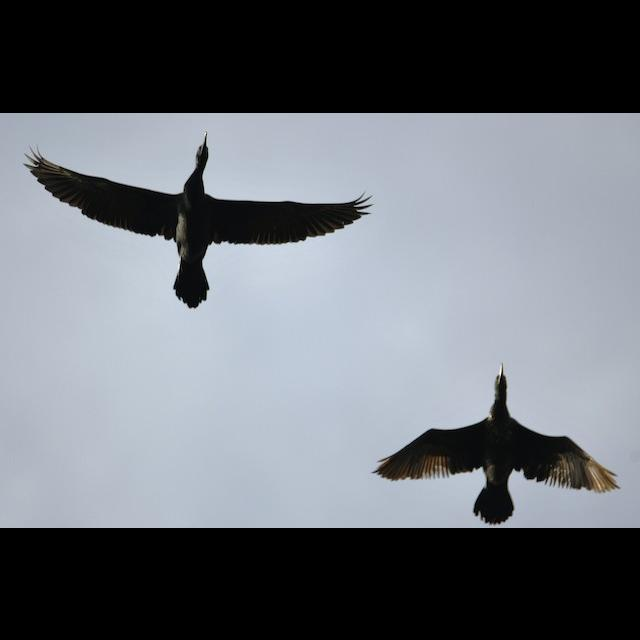cormorant: (18, 120, 374, 310), (368, 356, 630, 524)
